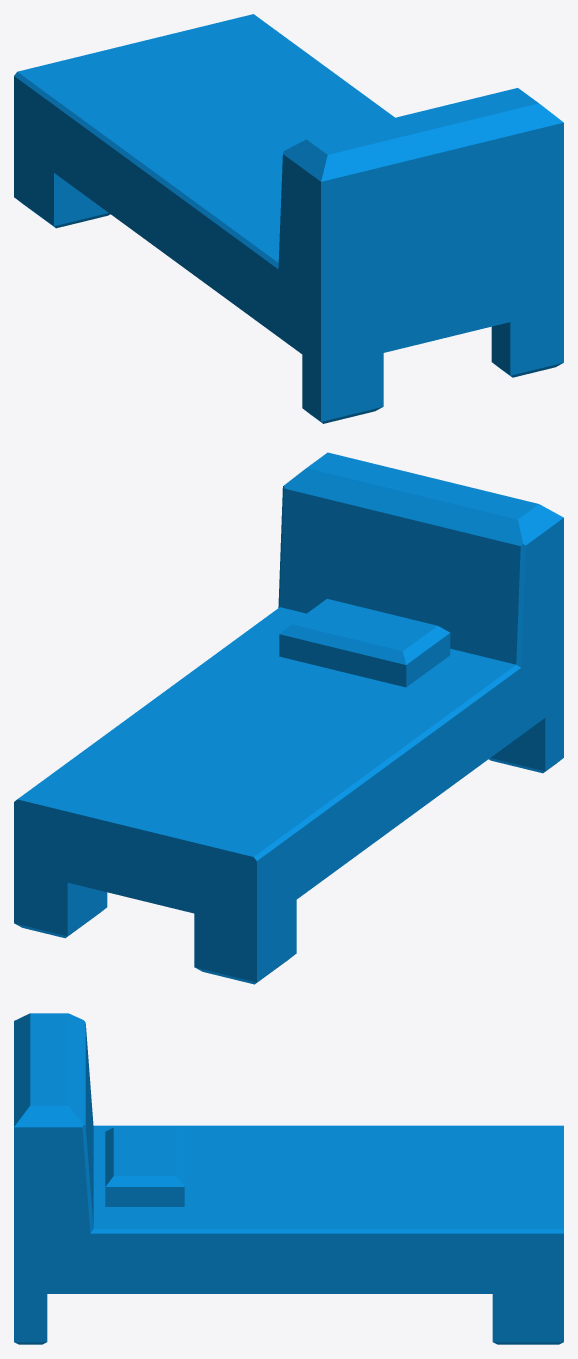
Rendered from bed.glb.
The picture shows the model from 3 angles, top to bottom: view 1: azimuth 30°, elevation 25°; view 2: azimuth 150°, elevation 25°; view 3: azimuth 270°, elevation 25°; orthographic projection. The views are drawn at different scales.
Parts seen in each view (by area): view 1: bed; view 2: bed; view 3: bed.
Part boxes in pixels (x1=…): bed: x1=14, y1=14, x2=563, y2=423; bed: x1=14, y1=452, x2=563, y2=984; bed: x1=14, y1=1013, x2=563, y2=1344.
Size of the model in its own units: 2 by 2.06 by 4.38.
